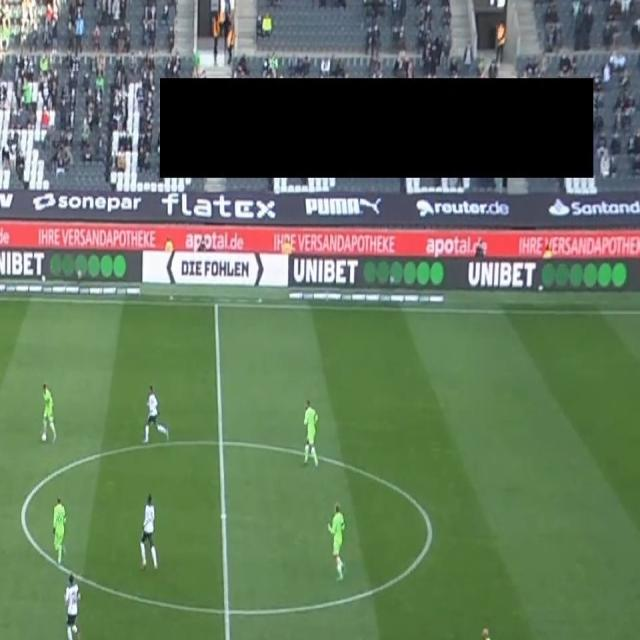ball: (40, 431, 48, 443)
